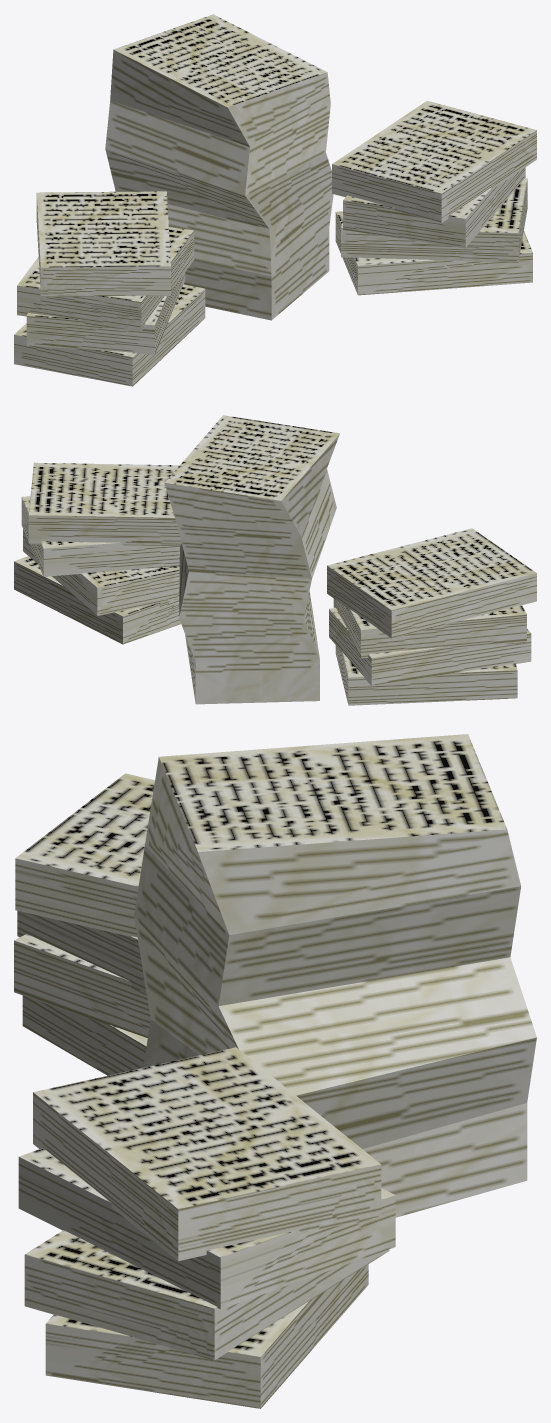
Rendered from PaperStack_1_1.fbx.
The picture shows the model from 3 angles, top to bottom: view 1: azimuth 30°, elevation 25°; view 2: azimuth 150°, elevation 25°; view 3: azimuth 270°, elevation 25°; orthographic projection. The views are drawn at different scales.
Visible parts, largest first — view 1: PaperStack; view 2: PaperStack; view 3: PaperStack.
Part boxes in pixels (x1=…): PaperStack: x1=14, y1=14, x2=536, y2=386; PaperStack: x1=14, y1=415, x2=536, y2=705; PaperStack: x1=14, y1=734, x2=536, y2=1408.
Bounding box in the file's own units: 920 × 370 × 457.
Materials: 1 (1 with a texture image).
